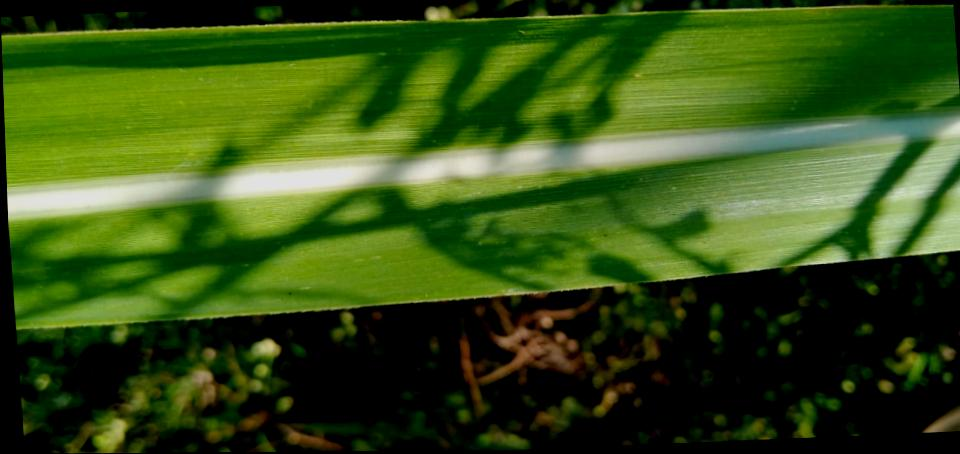Healthy: (1, 6, 960, 329)
